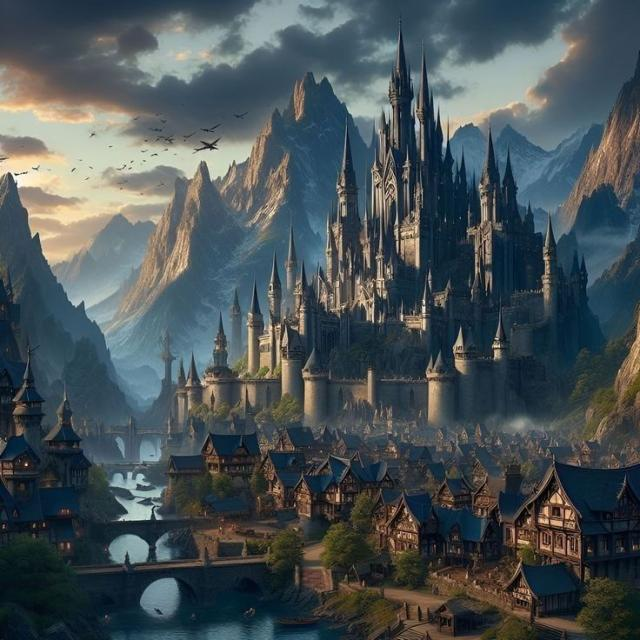castle: (184, 13, 593, 424)
